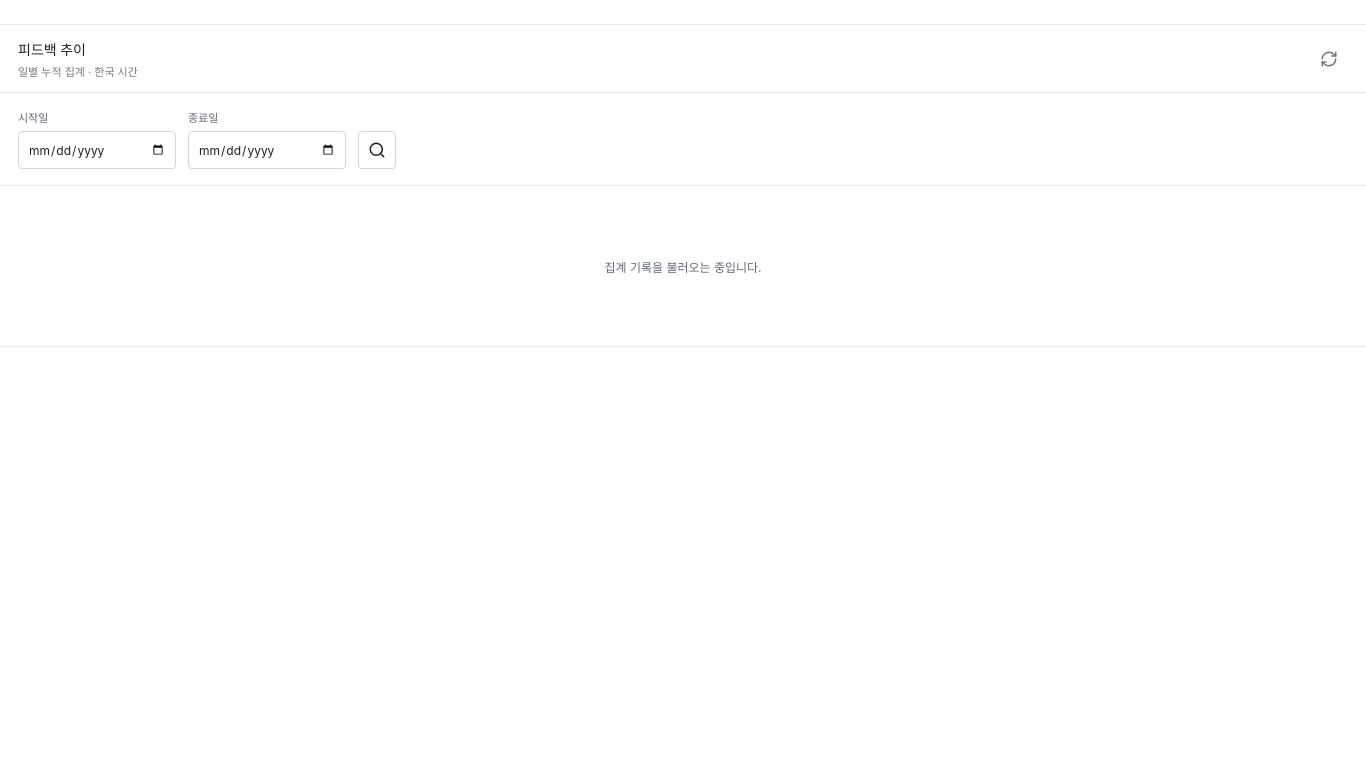
Test: IssueTrendSection › ignores a late response for an older date range
Type "2026-08-05" into the date field labelled "시작일". click: (97,150)
box: [18, 131, 176, 169]
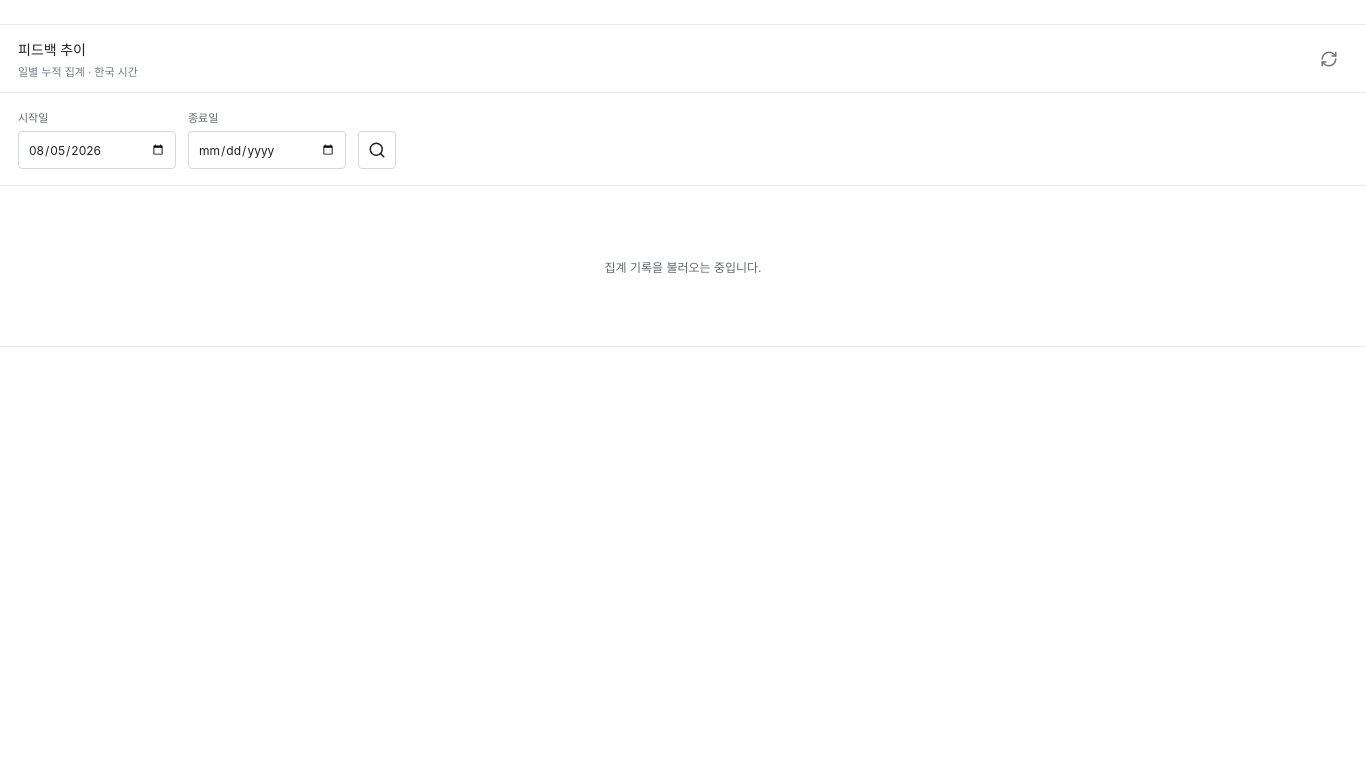
Type "2026-09-03" into the date field labelled "종료일". click: (267,150)
box: [188, 131, 346, 169]
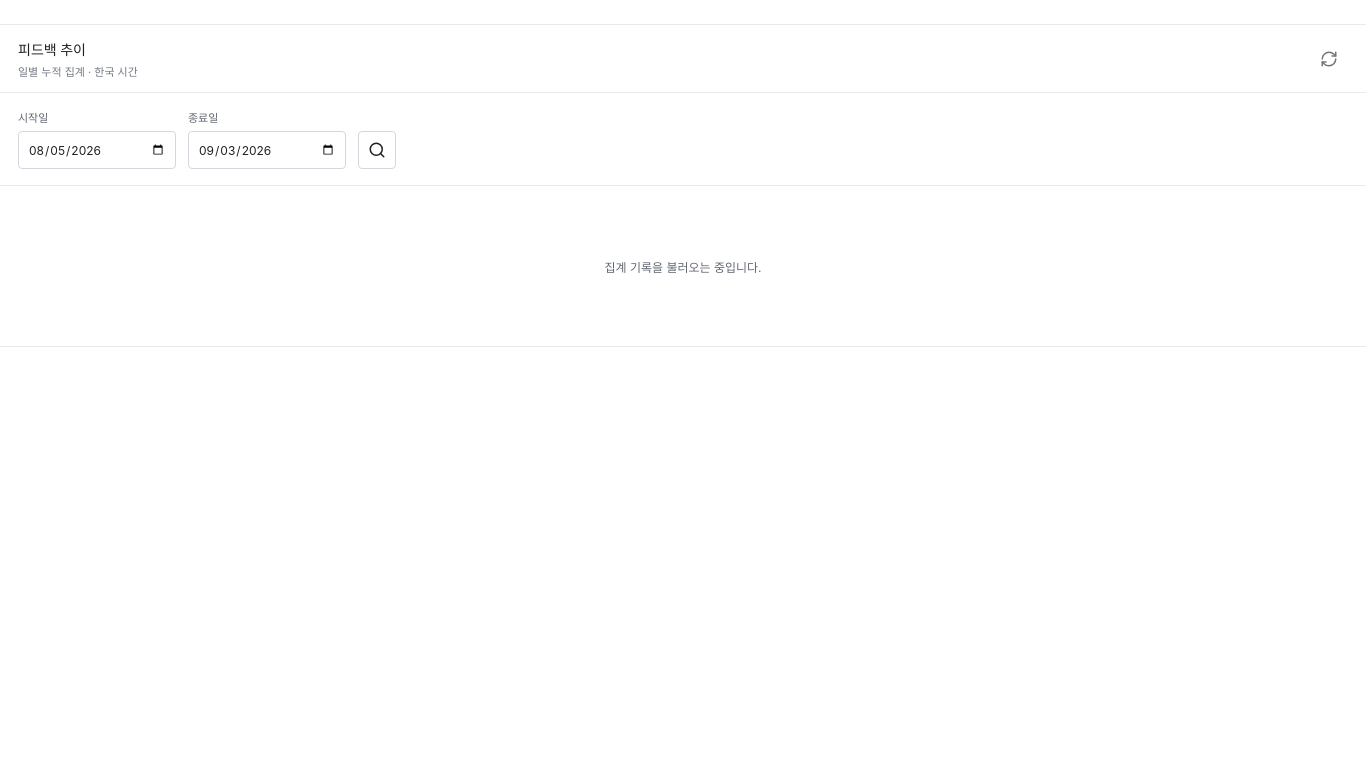
Click the button named "추이 기간 조회". click: (377,150)
box: [358, 131, 396, 169]
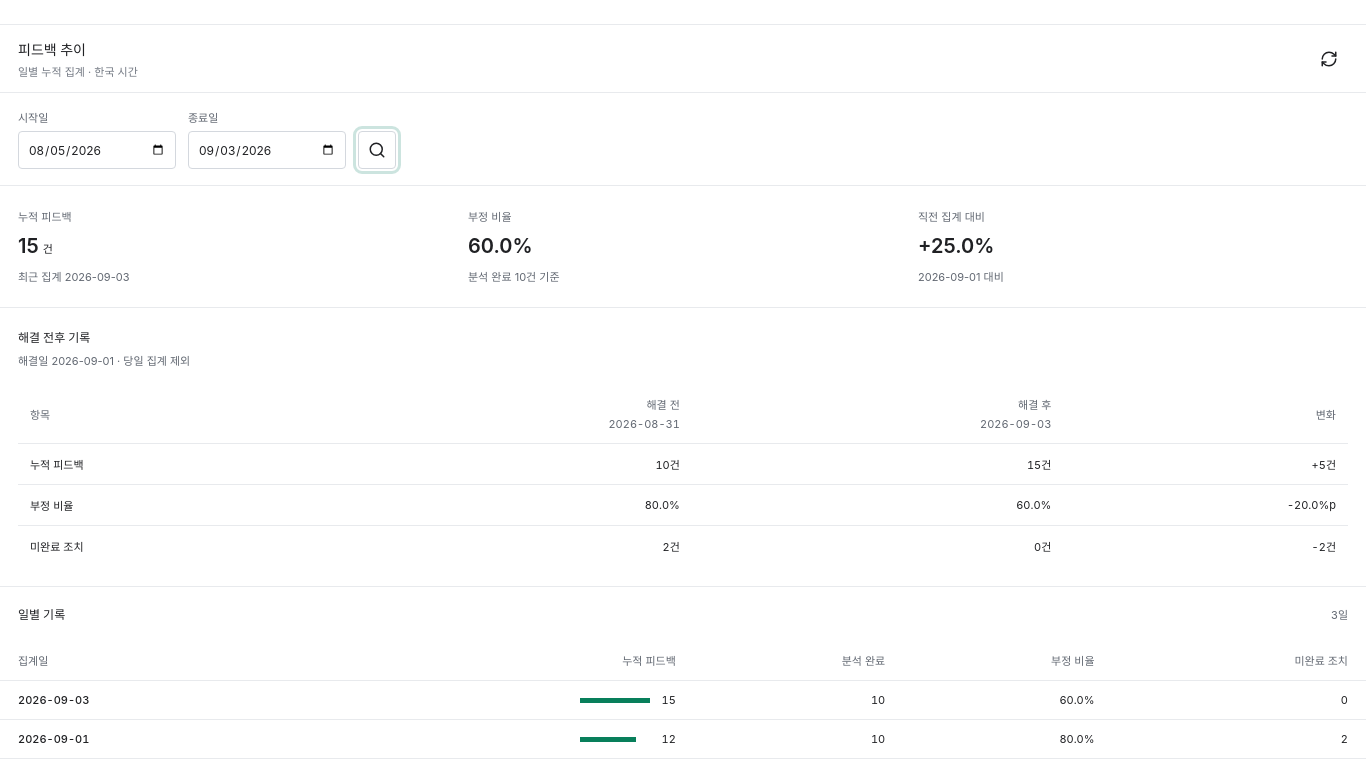
Expected: the text "+25.0%" is shown, [918, 234, 994, 258]
